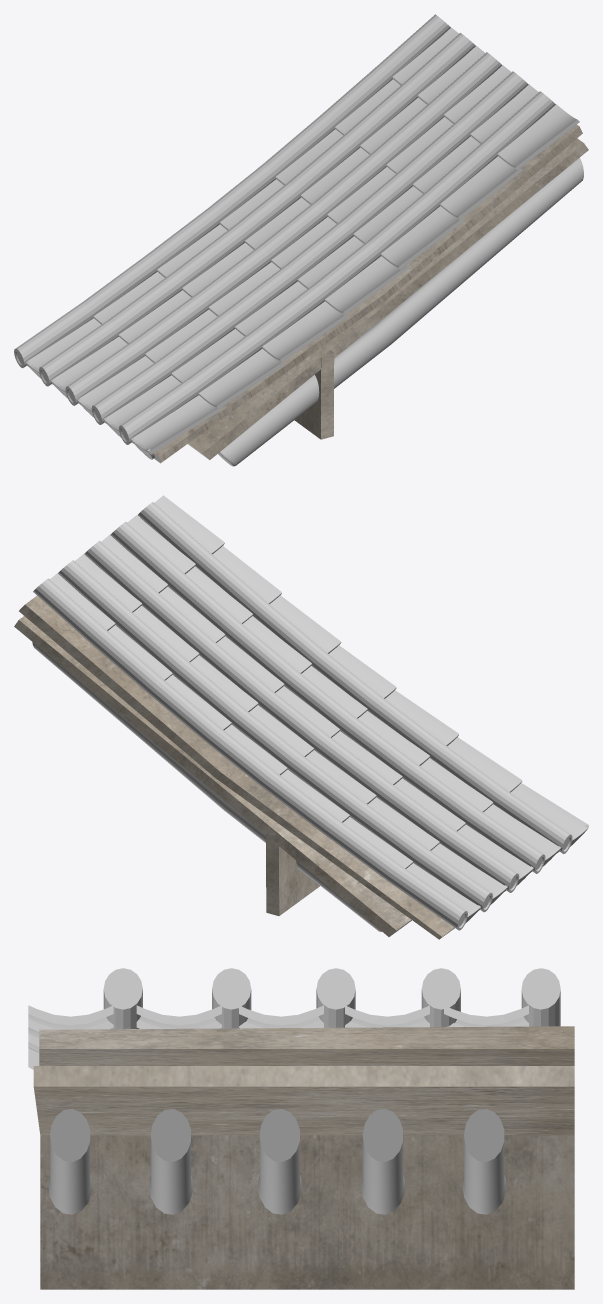
The model's file is SM_Roof_67.fbx.
3 renders of one model, top to bottom at view 1: azimuth 30°, elevation 25°; view 2: azimuth 150°, elevation 25°; view 3: azimuth 270°, elevation 25°, orthographic. The views are drawn at different scales.
Parts seen in each view (by area): view 1: SM_Roof_67; view 2: SM_Roof_67; view 3: SM_Roof_67.
Part boxes in pixels (x1,y1,x2,y2): SM_Roof_67: (14, 14, 588, 466); SM_Roof_67: (14, 495, 588, 939); SM_Roof_67: (28, 968, 574, 1289).
Bounding box in the file's own units: 547 × 292 × 335.
